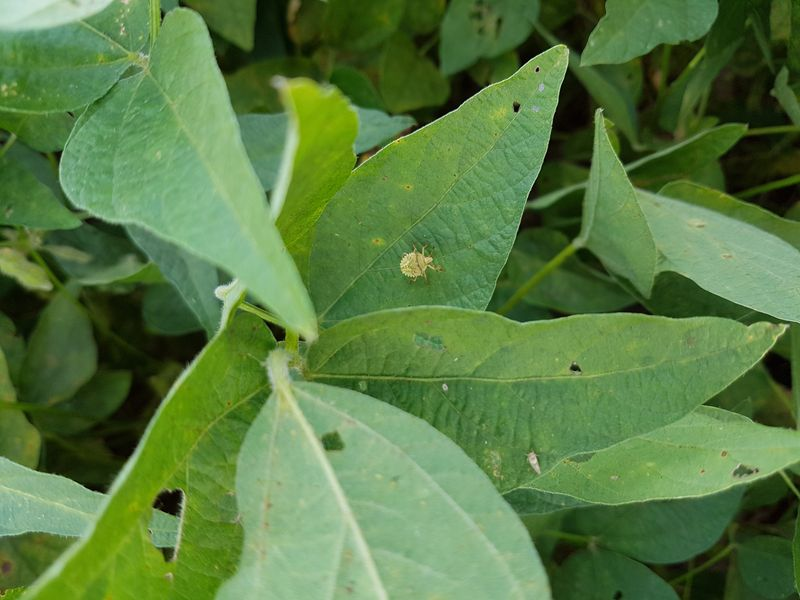Euschistus_heros_ninfa: (394, 241, 444, 290)
